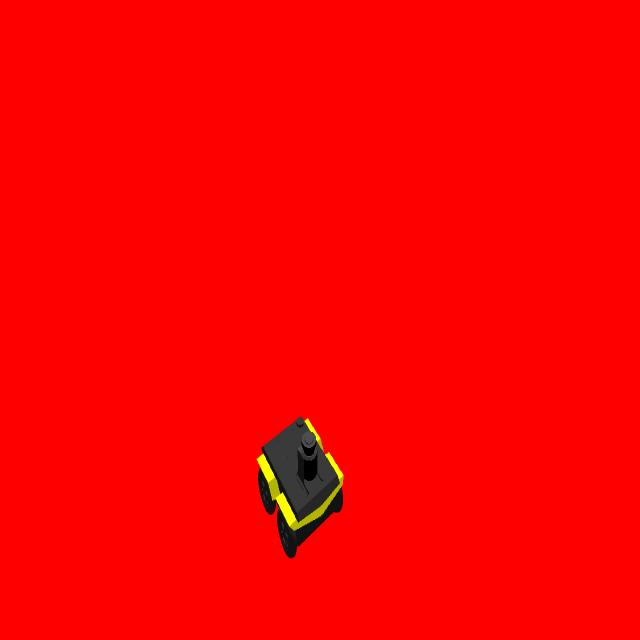jackal: (255, 412, 344, 564)
